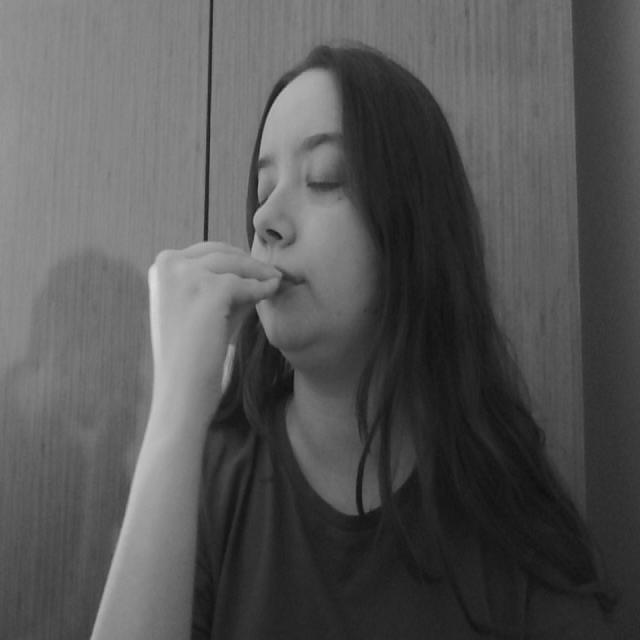Yemek: (141, 242, 319, 319)
